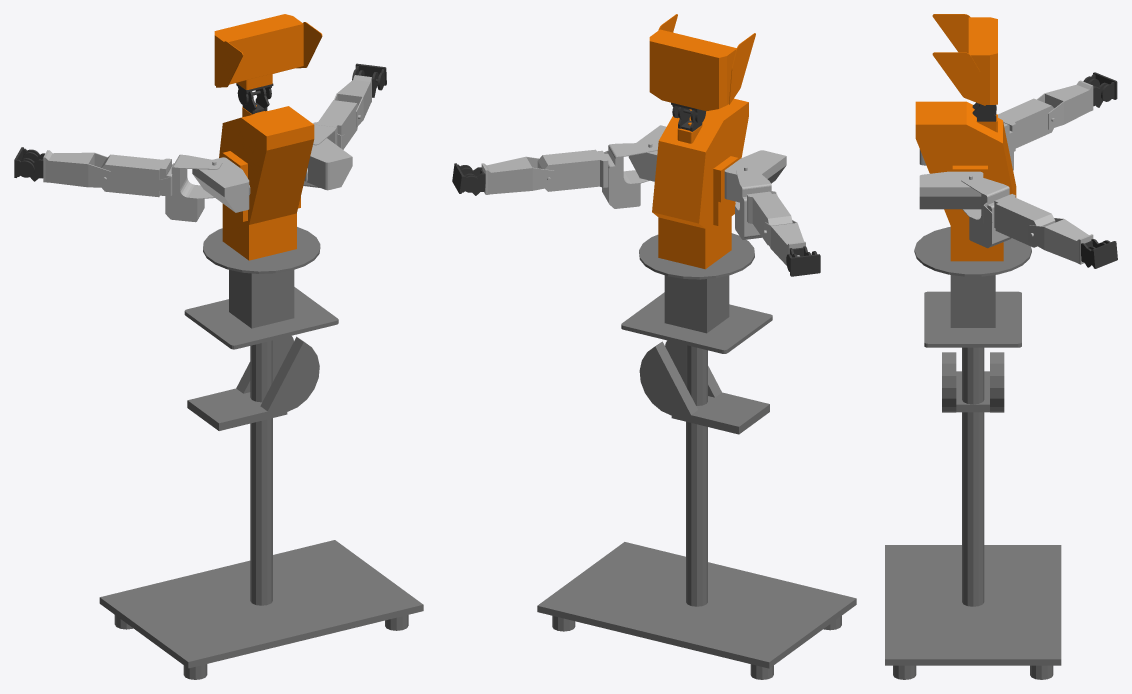
File: pumpkin_description.rounded.dae
The picture shows the model from 3 angles, left to right: view 1: azimuth 30°, elevation 25°; view 2: azimuth 150°, elevation 25°; view 3: azimuth 270°, elevation 25°; orthographic projection.
Visible parts, largest first — view 1: map, chest_link, head_link, l_shoulder2_link, l_upperarm_link, l_forearm_link, l_shoulder1_link, r_shoulder1_link, r_upperarm_link, r_forerarm_link; view 2: map, chest_link, head_link, r_upperarm_link, r_shoulder2_link, r_forerarm_link, l_shoulder1_link, l_shoulder2_link, l_upperarm_link, l_forearm_link, r_shoulder1_link, l_wrist1_link; view 3: map, chest_link, head_link, r_shoulder1_link, r_shoulder2_link, r_upperarm_link, r_forerarm_link, l_upperarm_link, l_forearm_link, r_wrist1_link, l_wrist1_link.
Boxes of the visible parts, <box> form: map: <box>99,227,423,679</box>; chest_link: <box>219,105,314,260</box>; head_link: <box>214,14,322,89</box>; l_shoulder2_link: <box>159,154,222,222</box>; l_upperarm_link: <box>101,154,171,197</box>; l_forearm_link: <box>43,150,110,187</box>; l_shoulder1_link: <box>192,157,250,212</box>; r_shoulder1_link: <box>304,138,352,190</box>; r_upperarm_link: <box>313,100,361,148</box>; r_forerarm_link: <box>334,75,371,127</box>; map: <box>537,233,856,679</box>; chest_link: <box>652,98,748,269</box>; head_link: <box>649,14,755,111</box>; r_upperarm_link: <box>537,149,608,191</box>; r_shoulder2_link: <box>602,142,657,208</box>; r_forerarm_link: <box>481,156,554,194</box>; l_shoulder1_link: <box>724,150,786,202</box>; l_shoulder2_link: <box>735,166,777,239</box>; l_upperarm_link: <box>747,191,792,245</box>; l_forearm_link: <box>764,220,805,265</box>; r_shoulder1_link: <box>628,125,666,181</box>; l_wrist1_link: <box>786,251,820,276</box>; map: <box>885,227,1061,679</box>; chest_link: <box>915,101,1016,261</box>; head_link: <box>932,14,997,105</box>; r_shoulder1_link: <box>919,171,983,209</box>; r_shoulder2_link: <box>961,175,1011,248</box>; r_upperarm_link: <box>994,194,1055,247</box>; r_forerarm_link: <box>1028,218,1093,264</box>; l_upperarm_link: <box>998,98,1055,151</box>; l_forearm_link: <box>1037,80,1093,129</box>; r_wrist1_link: <box>1081,240,1117,268</box>; l_wrist1_link: <box>1083,72,1117,101</box>.
Size of the model in its own units: 1.09 by 0.5947 by 1.67.
